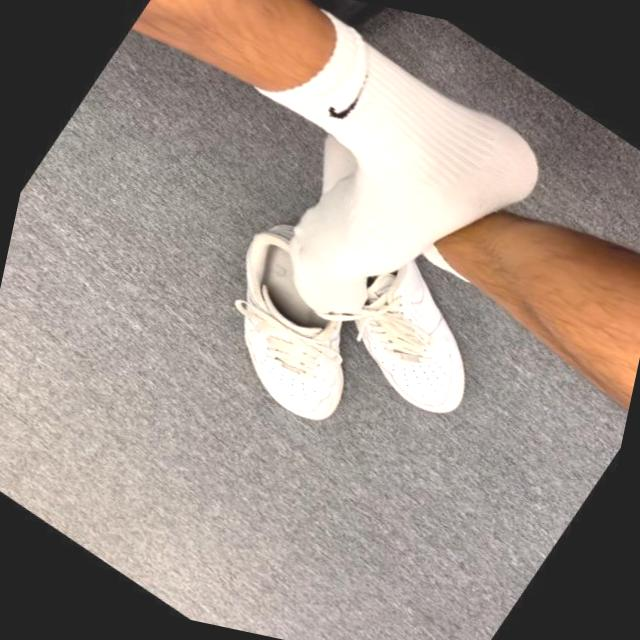nike_original_airforce: (168, 200, 426, 452), (291, 220, 533, 442)
